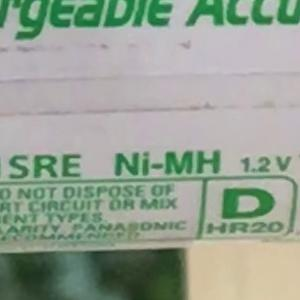NI-MH: (106, 142, 219, 185)
